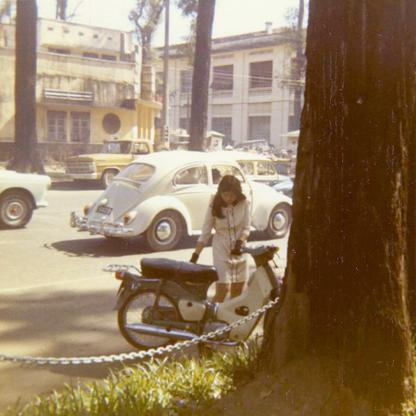Car: (66, 144, 296, 248), (65, 135, 155, 189), (210, 149, 296, 193), (0, 161, 54, 229)
